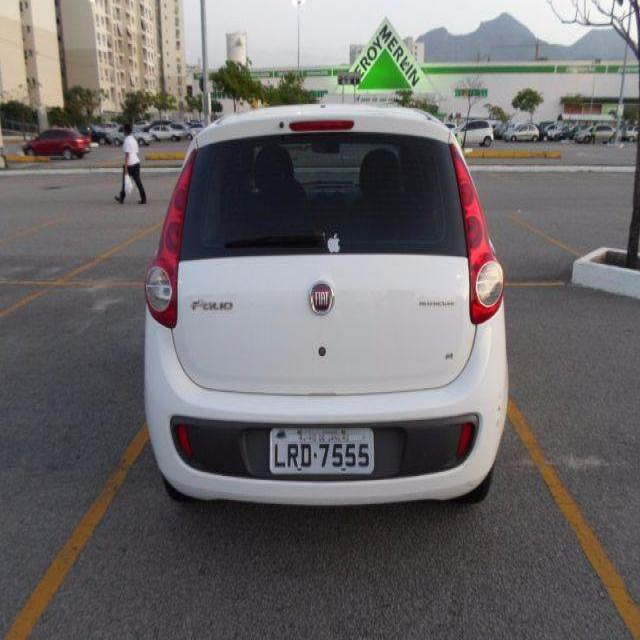Placa: (268, 423, 376, 476)
